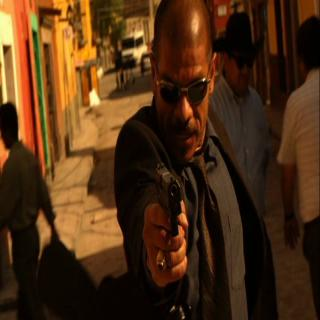gun: (145, 150, 186, 268)
